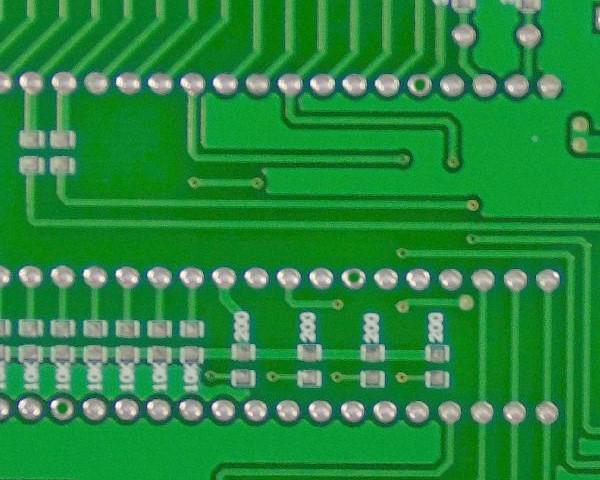missing hole: (45, 391, 80, 427), (336, 265, 368, 293), (404, 71, 436, 97)
